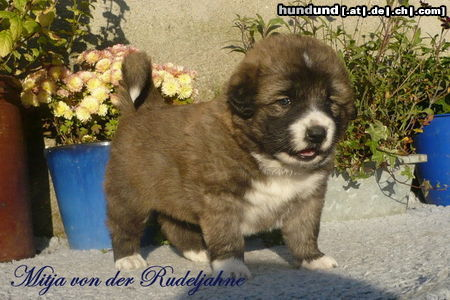cau_ovcharka: (103, 34, 357, 279)
